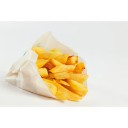frenchfries: (34, 42, 92, 99)
